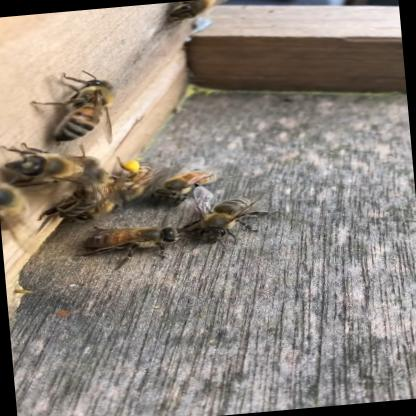bee: (55, 148, 200, 278), (18, 56, 130, 156), (176, 181, 268, 255), (3, 125, 84, 195), (0, 160, 16, 253)
